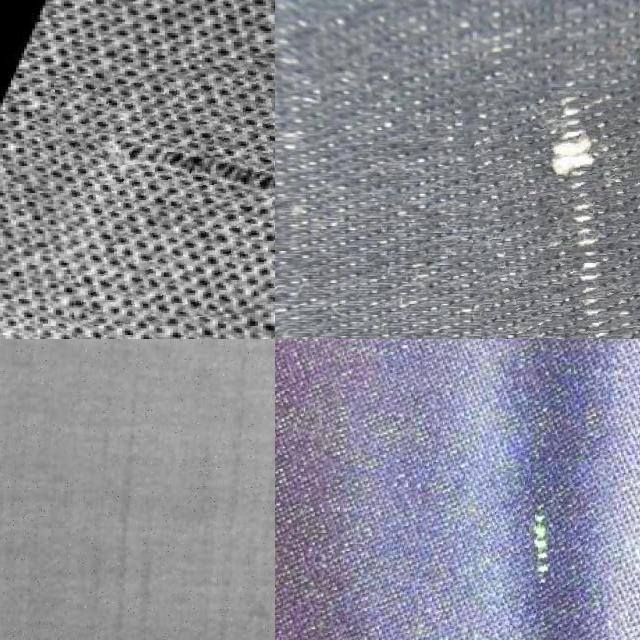stains: (58, 61, 275, 320), (468, 86, 640, 339), (468, 462, 618, 640)
